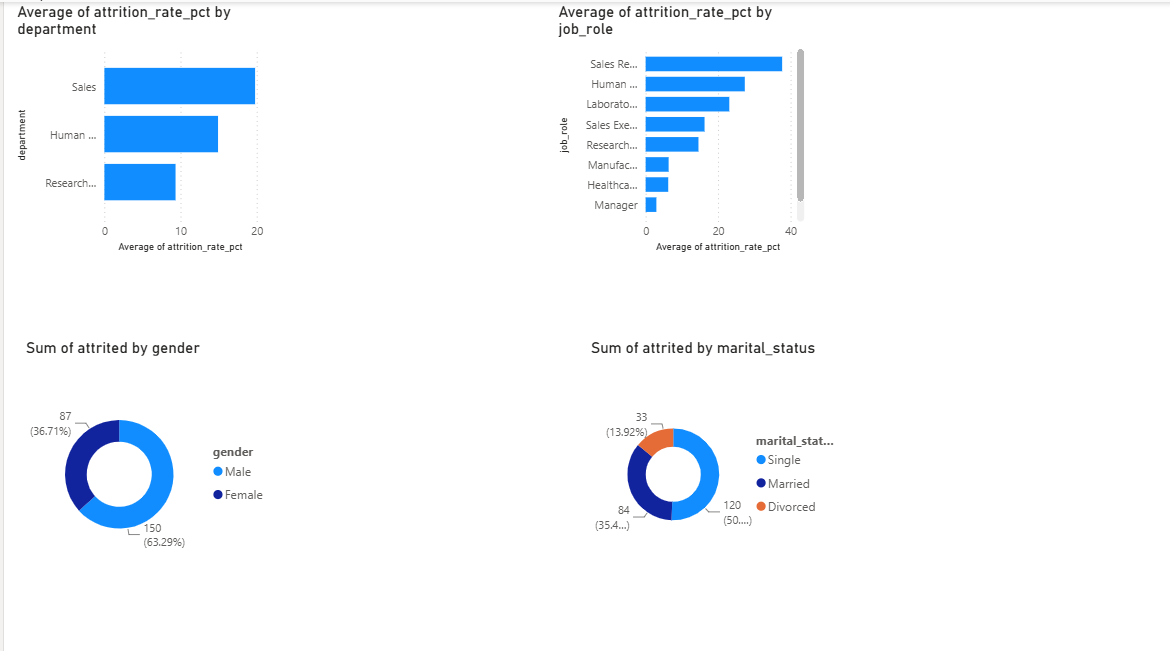

This screenshot's page, from the dashboard's own definition file:
{"tool":"powerbi","page":{"name":"Attrition Analysis","canvas":[1280,720],"ordinal":0},"visuals":[{"type":"clusteredBarChart","fields":{"Category":["public vw_attrition_summary.department"],"Y":["Avg(public vw_attrition_summary.attrition_rate_pct)"]},"box":[10,0,280,280],"z":0},{"type":"clusteredBarChart","fields":{"Category":["public vw_attrition_summary.job_role"],"Y":["Avg(public vw_attrition_summary.attrition_rate_pct)"]},"box":[603.8,0,279.9,279.9],"z":1000},{"type":"donutChart","fields":{"Category":["public vw_attrition_summary.gender"],"Y":["Sum(public vw_attrition_summary.attrited)"]},"box":[19.2,369.1,279.9,279.9],"z":2000},{"type":"donutChart","fields":{"Category":["public vw_attrition_summary.marital_status"],"Y":["Sum(public vw_attrition_summary.attrited)"]},"box":[639.5,369.1,279.9,279.9],"z":3000}]}

Visuals, with their boxes in screenshot pixels (x1, y1, x2, y2), scaled from the page's 1280x720 canvas onto the 1170x651 screenshot:
clusteredBarChart - public vw_attrition_summary.department x Avg(public vw_attrition_summary.attrition_rate_pct): (9,0,265,253)
clusteredBarChart - public vw_attrition_summary.job_role x Avg(public vw_attrition_summary.attrition_rate_pct): (552,0,808,253)
donutChart - public vw_attrition_summary.gender x Sum(public vw_attrition_summary.attrited): (18,334,273,587)
donutChart - public vw_attrition_summary.marital_status x Sum(public vw_attrition_summary.attrited): (585,334,840,587)
